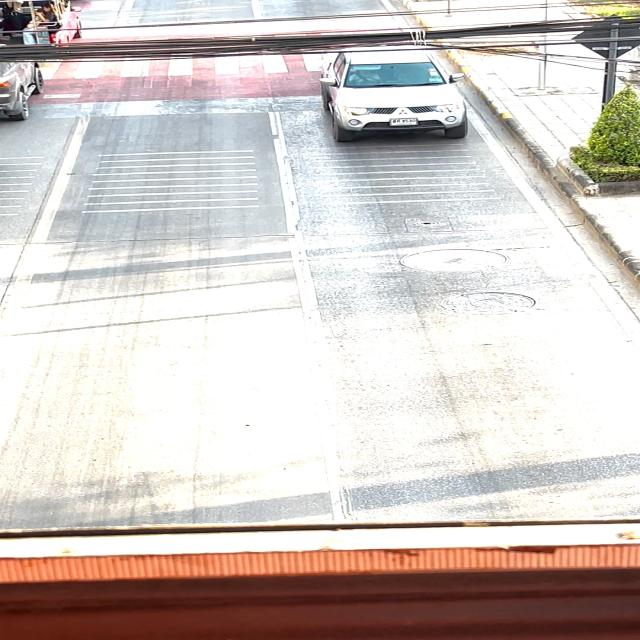car: (294, 27, 483, 145)
